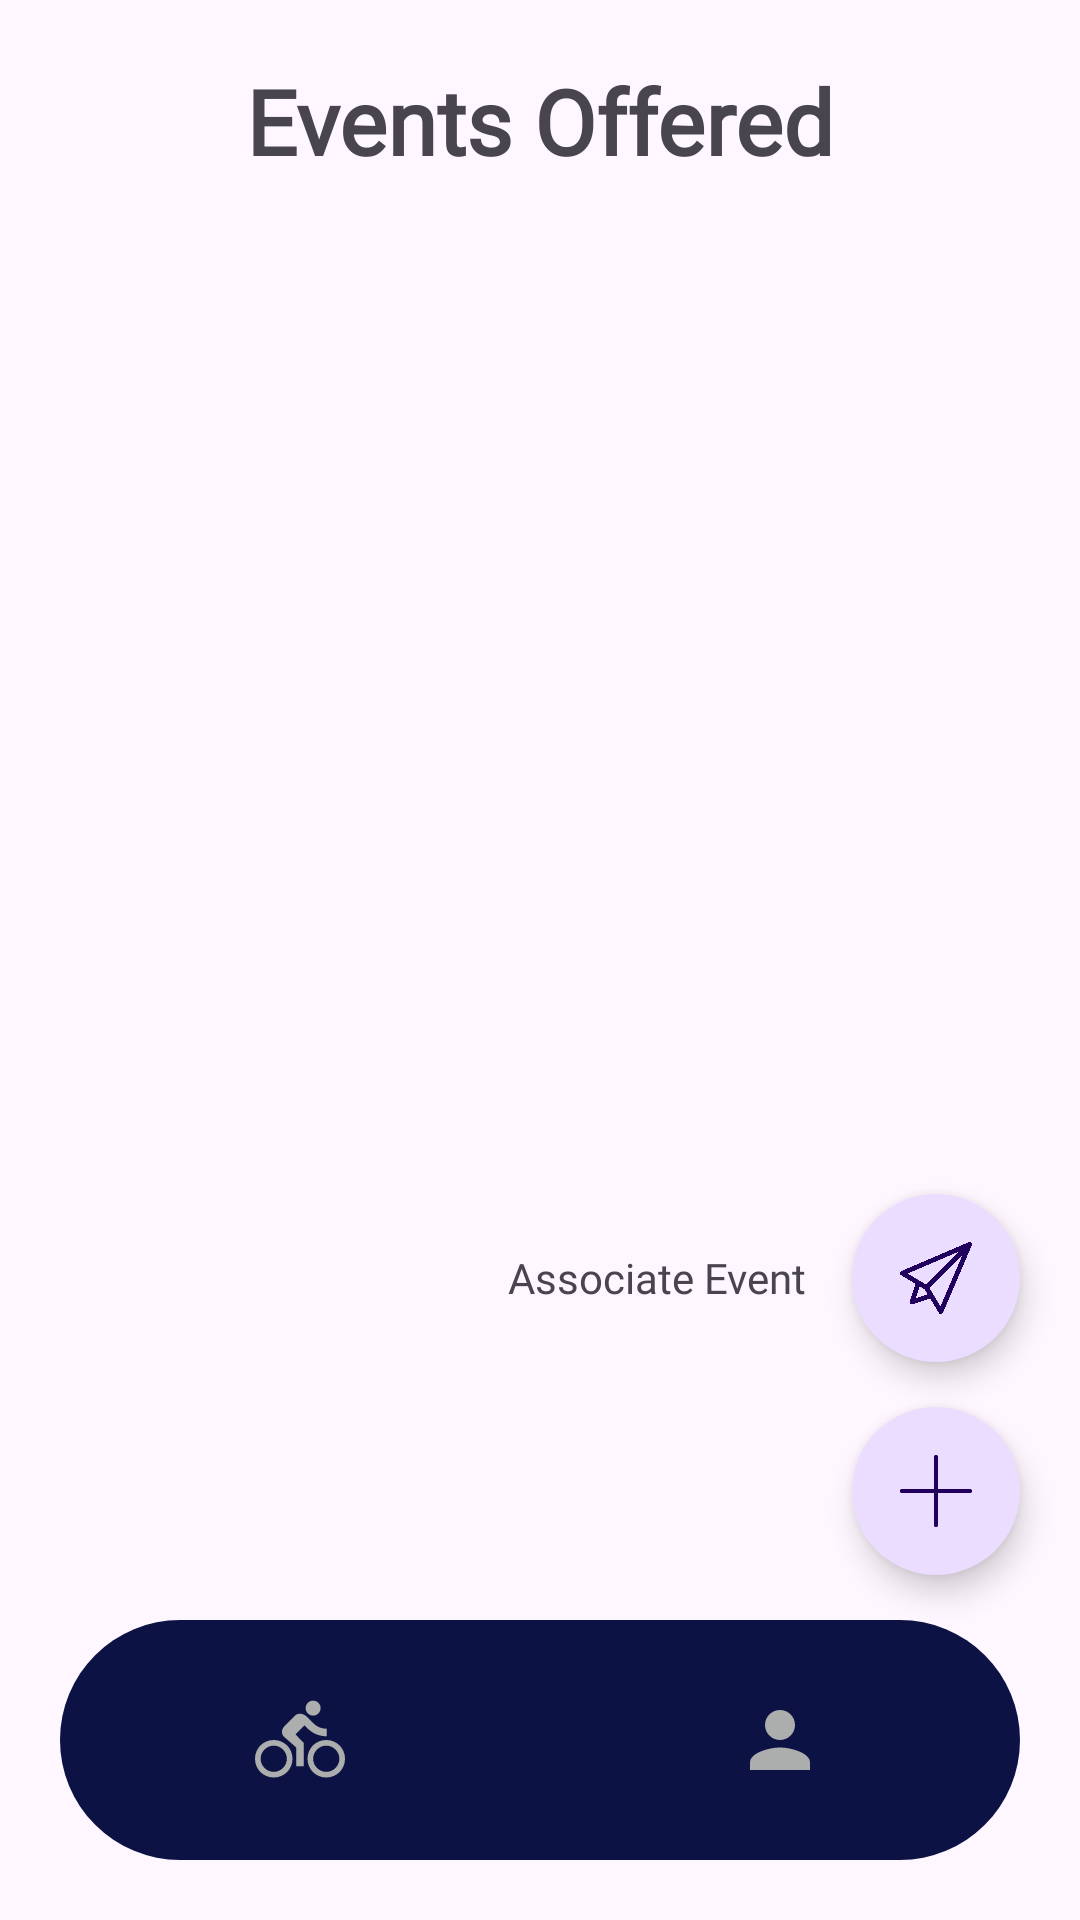

Where to tap for icons on this 1080px×1920px app screen, as point (x, y):
add: point (936, 1491)
